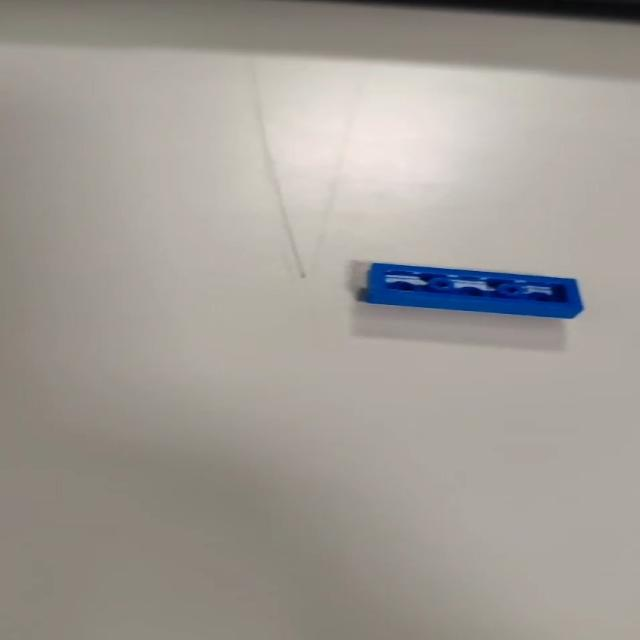C3x1x0: (353, 260, 588, 323)
